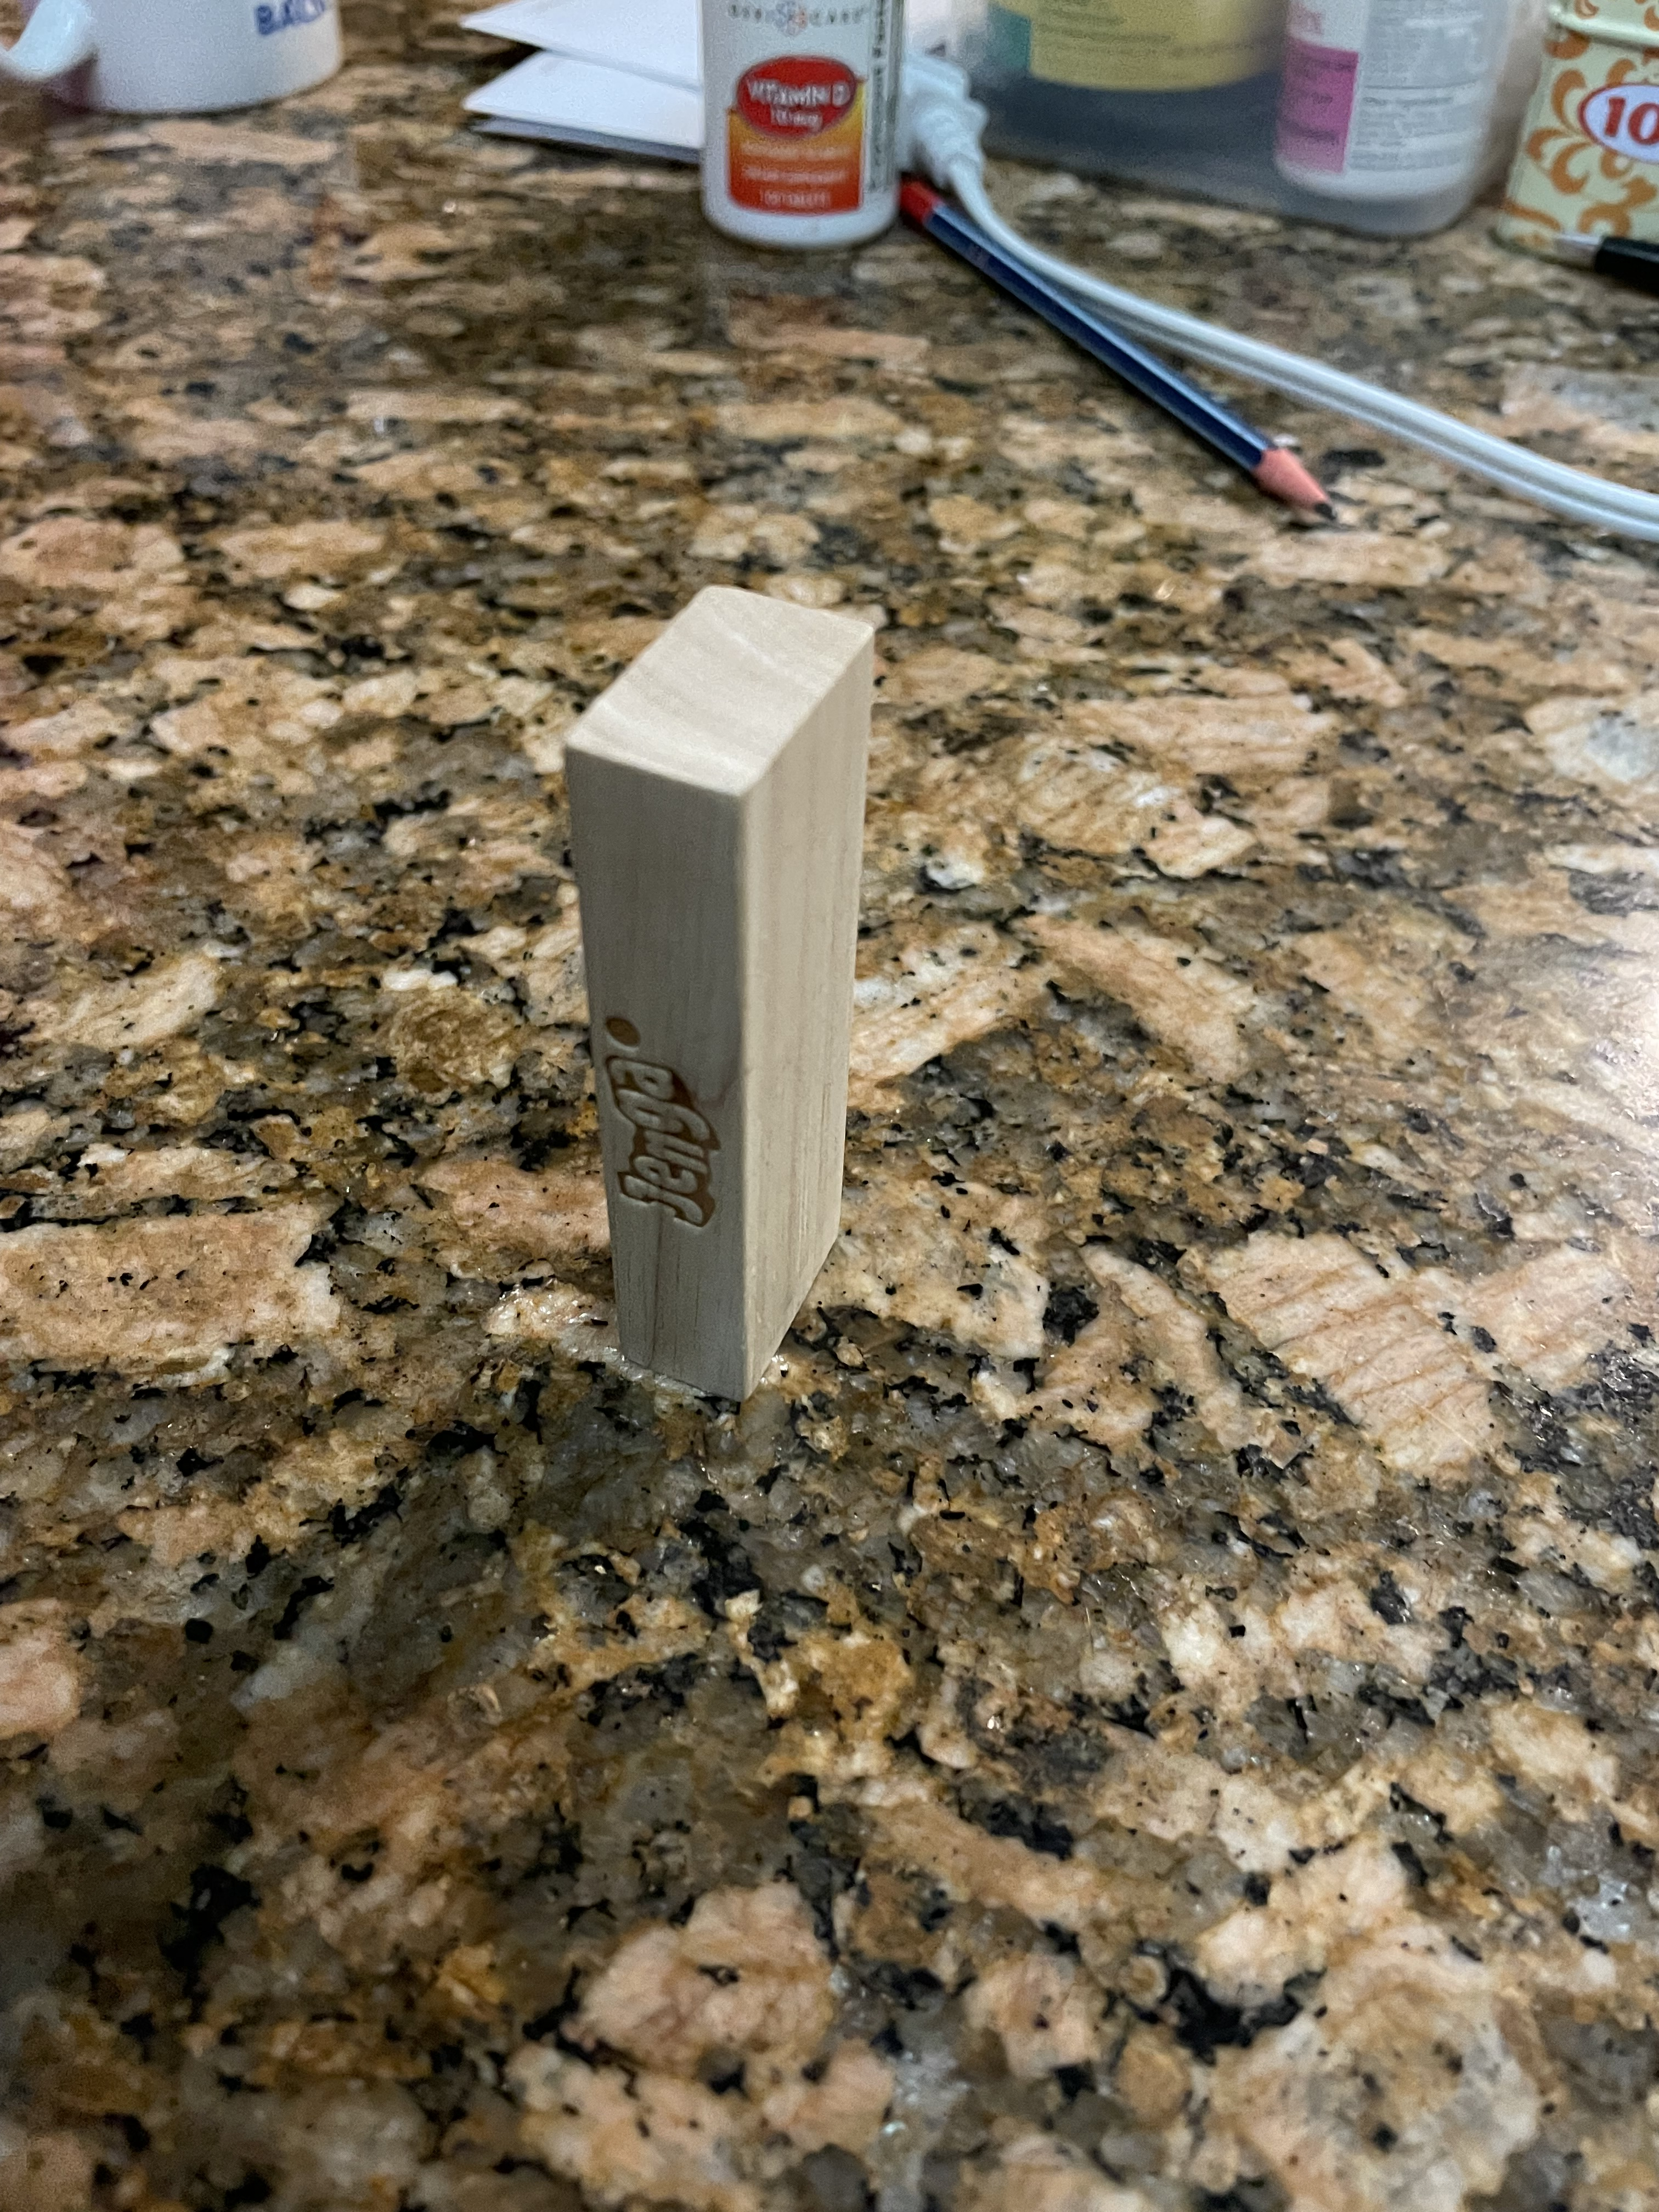jenga: (556, 577, 863, 1397)
